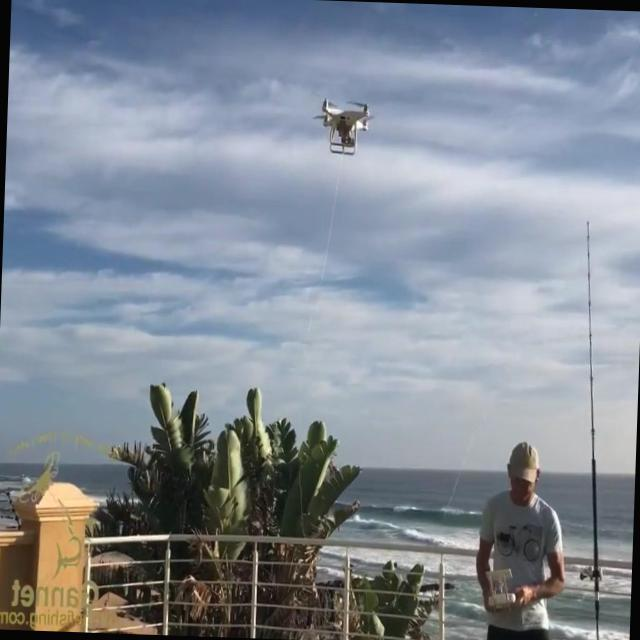drone: (314, 96, 373, 158)
